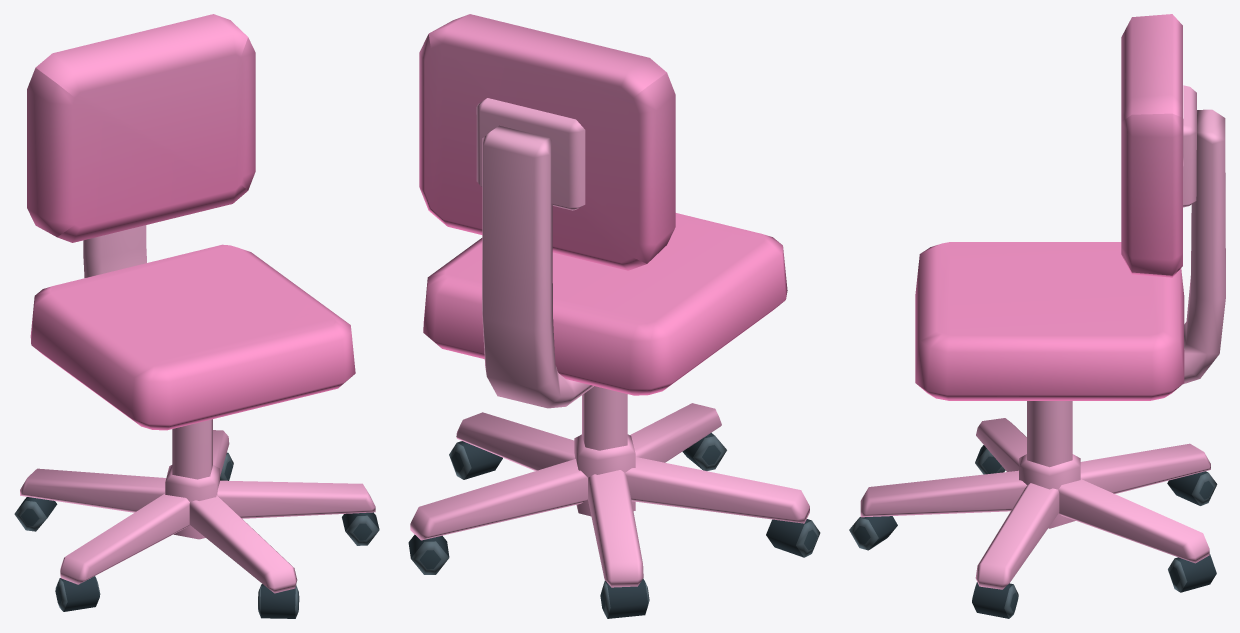
Rendered from Chair_PC_03.fbx.
3 views of the same model, side by side, from view 1: azimuth 30°, elevation 25°; view 2: azimuth 150°, elevation 25°; view 3: azimuth 270°, elevation 25° (orthographic). The views are drawn at different scales.
Parts seen in each view (by area): view 1: Chair_PC_03; view 2: Chair_PC_03; view 3: Chair_PC_03.
Boxes of the visible parts, left/top/right/bottom form: Chair_PC_03: left=14, top=14, right=379, bottom=618; Chair_PC_03: left=408, top=14, right=820, bottom=618; Chair_PC_03: left=849, top=14, right=1225, bottom=618.
Size of the model in its own units: 72.85 by 103 by 72.1.
Materials: 1 (1 with a texture image).
